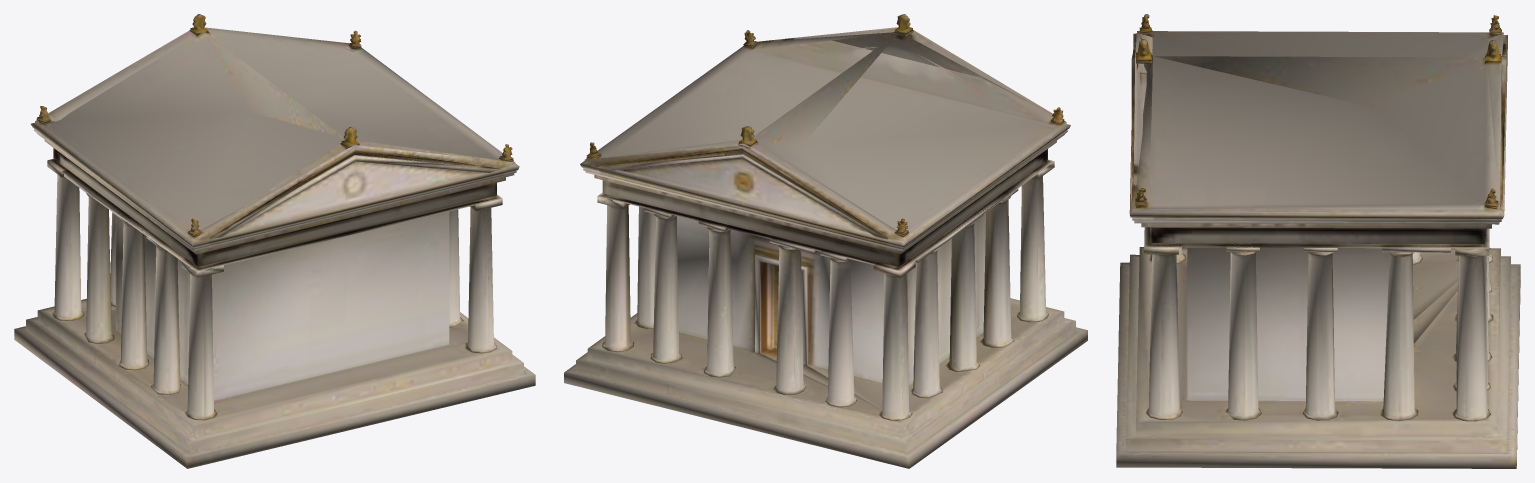
File: greek_temple.glb
The picture shows the model from 3 angles, left to right: view 1: azimuth 30°, elevation 25°; view 2: azimuth 150°, elevation 25°; view 3: azimuth 270°, elevation 25°; orthographic projection. The views are drawn at different scales.
Visible parts, largest first — view 1: greek_temple; view 2: greek_temple; view 3: greek_temple.
Boxes of the visible parts, x1=… form: greek_temple: x1=14, y1=14, x2=535, y2=468; greek_temple: x1=564, y1=14, x2=1087, y2=468; greek_temple: x1=1116, y1=14, x2=1520, y2=468.
Size of the model in its own units: 10.02 by 7.98 by 8.83.
Materials: 1 (1 with a texture image).
